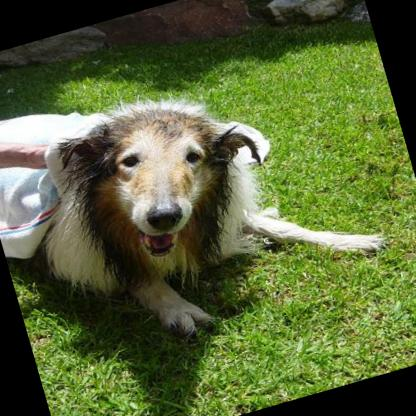collie: (0, 22, 401, 383)
